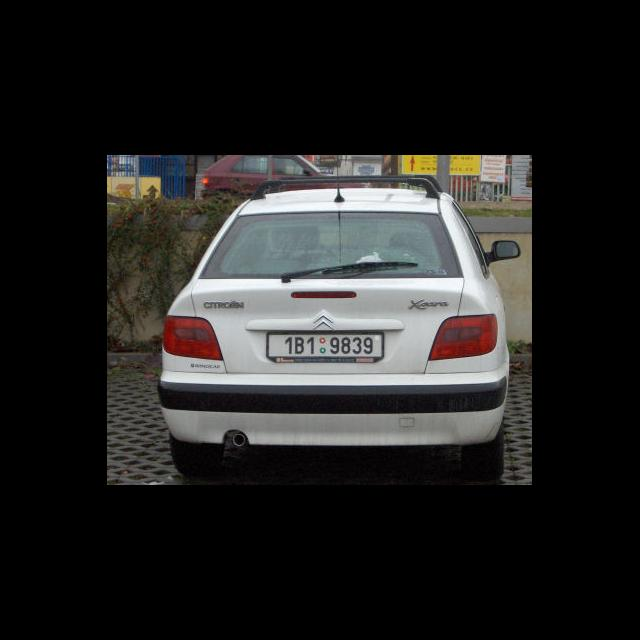Plate: (266, 329, 384, 360)
